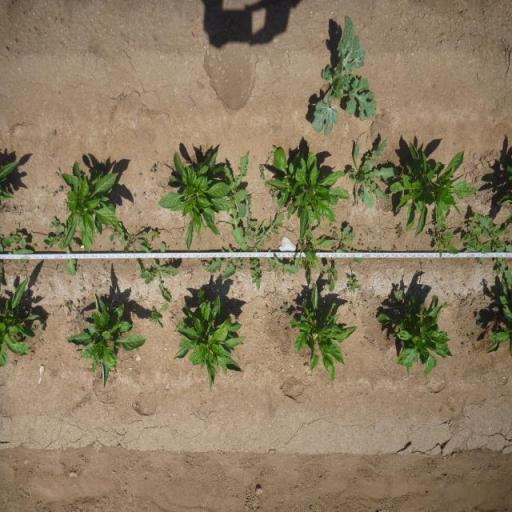plant: (390, 138, 479, 238), (171, 285, 247, 400), (65, 290, 149, 389), (265, 144, 350, 234), (287, 284, 359, 389), (157, 149, 230, 249), (376, 295, 455, 378), (61, 158, 124, 253), (0, 273, 43, 370)
weed: (309, 12, 381, 139), (205, 207, 298, 292), (346, 138, 400, 210), (464, 215, 512, 282), (225, 147, 254, 246), (137, 242, 180, 302), (40, 225, 81, 279), (293, 227, 327, 285), (320, 224, 365, 264), (429, 219, 460, 255), (116, 224, 142, 252), (322, 262, 340, 292), (150, 302, 168, 330), (2, 230, 26, 248), (9, 248, 35, 264), (346, 275, 361, 295), (395, 222, 404, 239), (394, 288, 404, 302), (149, 230, 160, 241), (48, 216, 60, 226), (278, 302, 288, 313), (269, 189, 278, 201), (259, 163, 265, 180), (150, 164, 156, 175), (75, 310, 81, 320), (478, 322, 484, 330), (390, 244, 396, 252), (64, 302, 71, 308), (57, 186, 64, 192), (475, 314, 481, 320), (138, 173, 142, 177)
